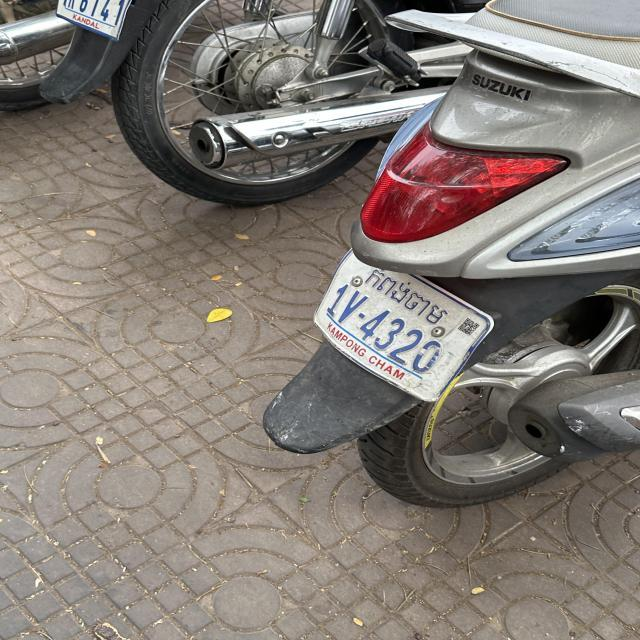Kampong_Cham: (362, 266, 448, 326)
